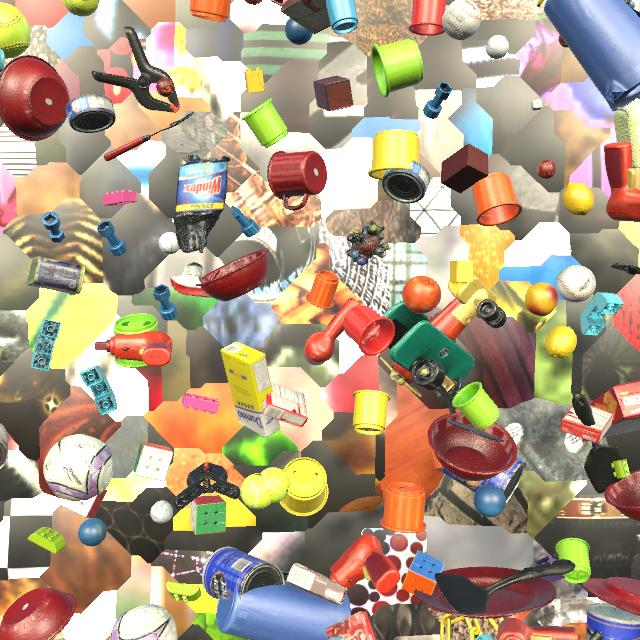ycb_002_master_chef_can: (202, 547, 285, 600), (438, 458, 526, 503), (586, 603, 640, 640)
ycb_003_cracker_box: (581, 380, 640, 442)
ycb_004_sugar_box: (220, 342, 281, 437)
ycb_005_tomato_soup_can: (0, 423, 8, 469)
ycb_007_tuna_fish_can: (382, 160, 430, 204), (65, 94, 116, 133)
ycb_008_pudding_box: (286, 563, 347, 605), (281, 0, 355, 34)
ycb_009_gelatin_box: (560, 405, 614, 444), (262, 383, 308, 428), (325, 611, 377, 640)
ycb_010_potted_meat_can: (27, 256, 85, 295)
ycb_012_strawberry: (244, 0, 263, 5)
ycb_014_lemon: (562, 182, 594, 215), (545, 326, 577, 358)
ycb_015_peach: (525, 282, 559, 316)
ycb_017_orange: (402, 275, 441, 314)
